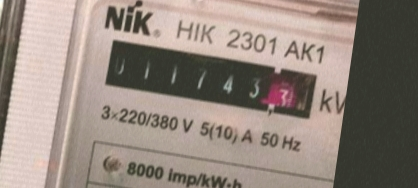0: (109, 48, 127, 77)
1: (136, 52, 154, 82), (164, 57, 180, 87)
3: (243, 72, 261, 101), (272, 86, 289, 109)
4: (218, 70, 235, 96)
7: (190, 64, 208, 90)
screen: (93, 33, 326, 128)
